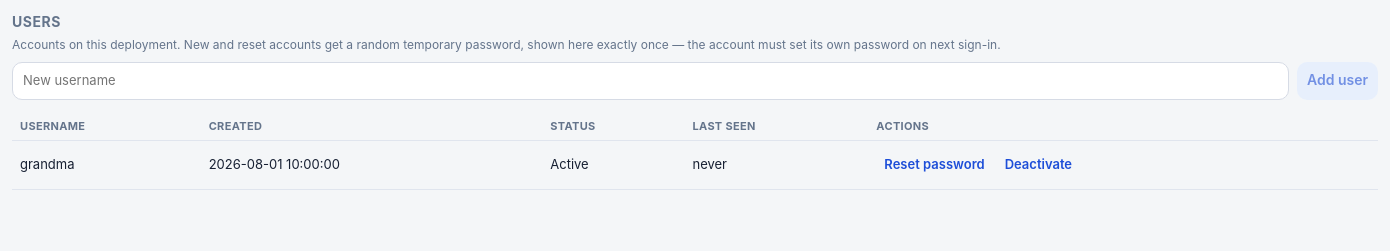
Test: Users › shows an error when creating a duplicate username
Expected: the text "grandma" is shown, [12, 140, 201, 190]
Type "grandma" into the field labelled "New username" at (650, 81), box [12, 62, 1289, 100]
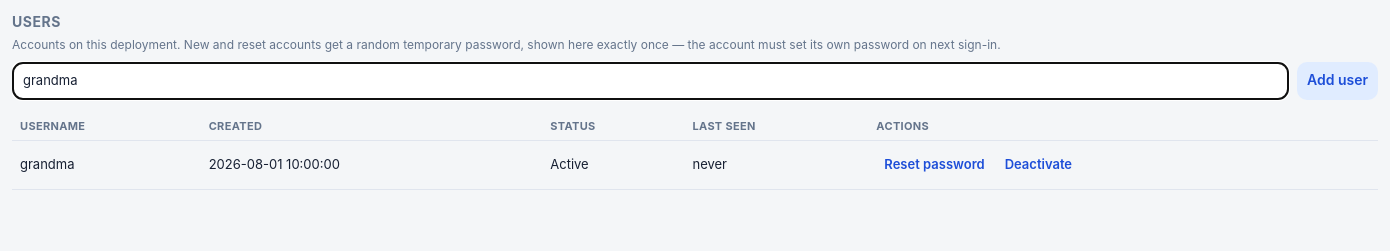
Click the button "Add user" at (1337, 81), box [1297, 62, 1378, 100]
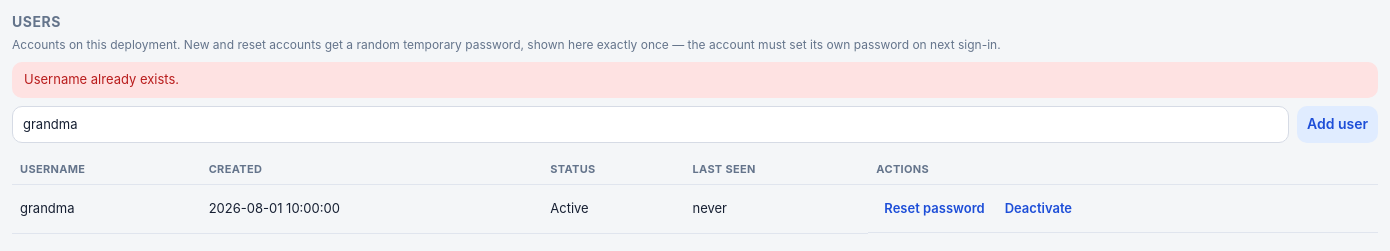
Now the text "Username already exists." is shown, box [12, 62, 1378, 98]
